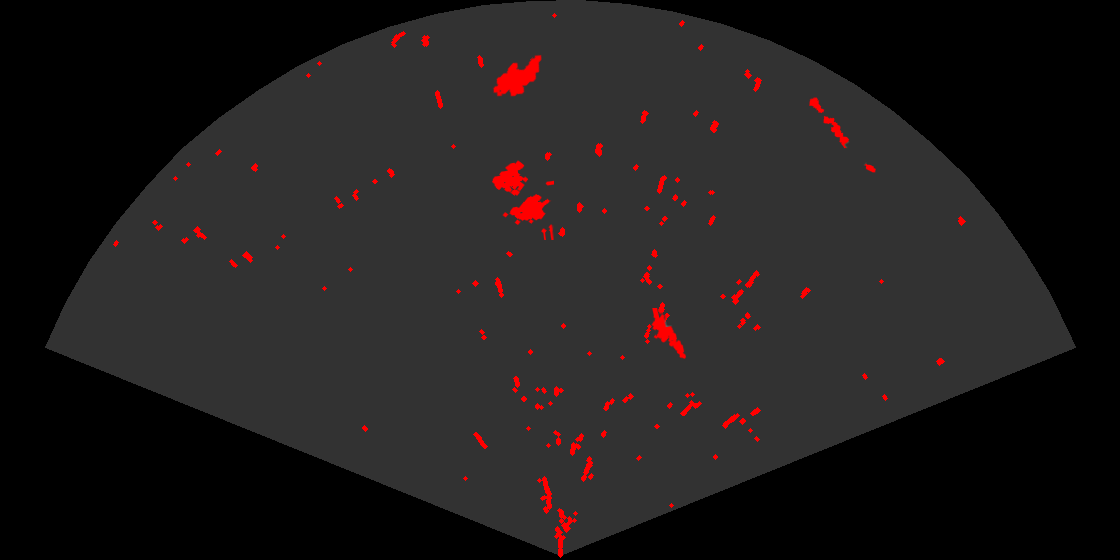AUV: (491, 53, 543, 98)
cage: (491, 159, 554, 240)
chain: (808, 96, 877, 174)
frogman: (650, 308, 688, 361)
